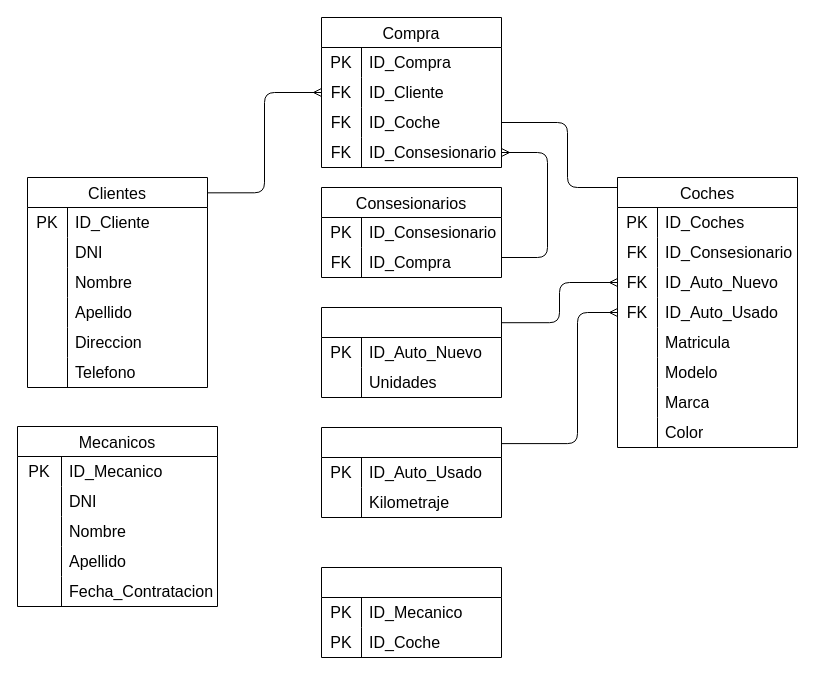
The diagram is 815 pixels wide and 675 high, and some of its shapes have lost their labels. Each missing label, with the box of its shape:
Autos_Nuevos: (320, 306, 502, 398)
Autos_Usados: (320, 426, 502, 518)
Mecanicos_Coches: (320, 566, 502, 658)
